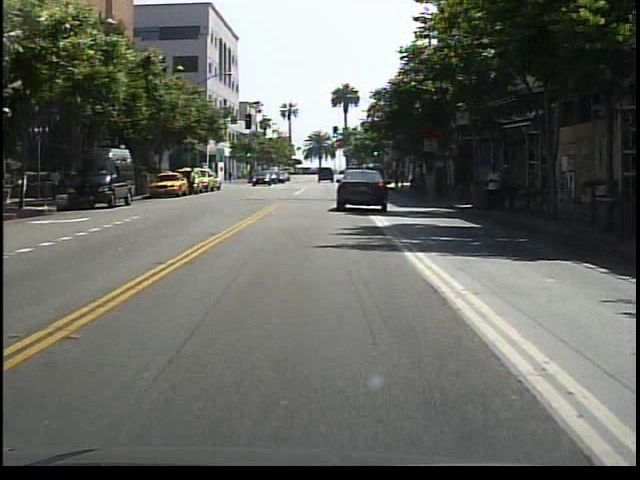person: (481, 160, 509, 219), (185, 162, 201, 198)
